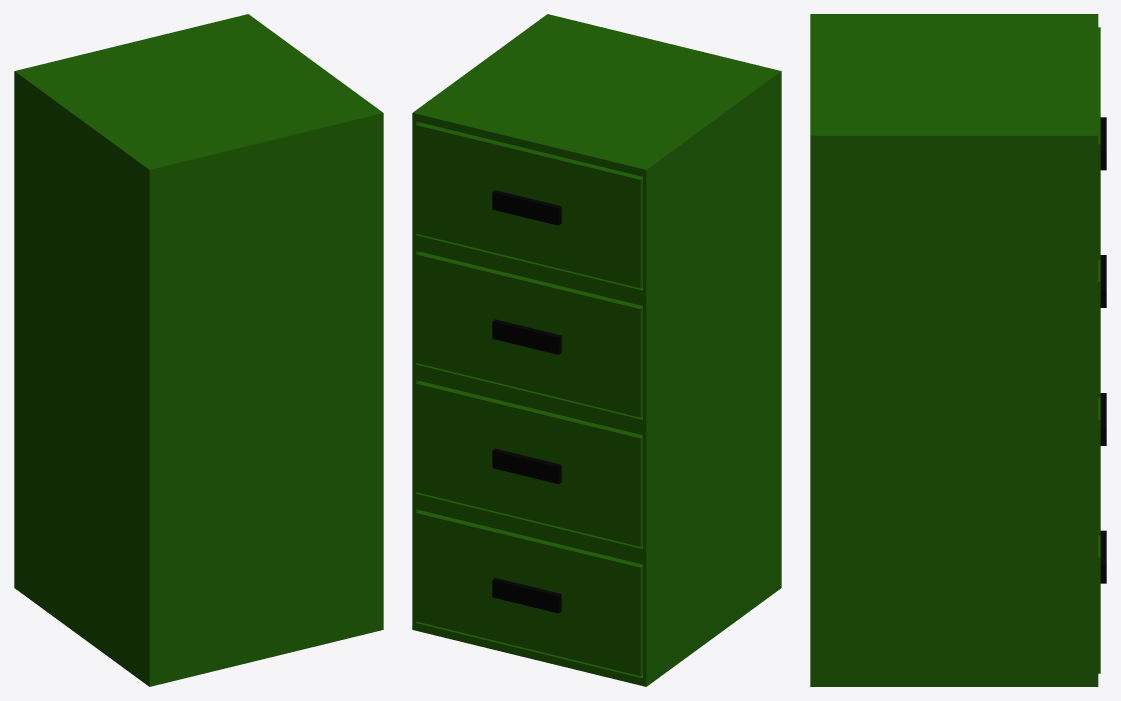
The model's file is FilingCabinet.fbx.
3 views of the same model, side by side, from view 1: azimuth 30°, elevation 25°; view 2: azimuth 150°, elevation 25°; view 3: azimuth 270°, elevation 25° (orthographic). The views are drawn at different scales.
Visible parts, largest first — view 1: Filing Cabinet; view 2: Filing Cabinet; view 3: Filing Cabinet.
Boxes of the visible parts, bbox=[...] form: Filing Cabinet: bbox=[14, 14, 383, 686]; Filing Cabinet: bbox=[412, 14, 781, 686]; Filing Cabinet: bbox=[810, 14, 1106, 686].
Bounding box in the file's own units: 120 × 253 × 124.
